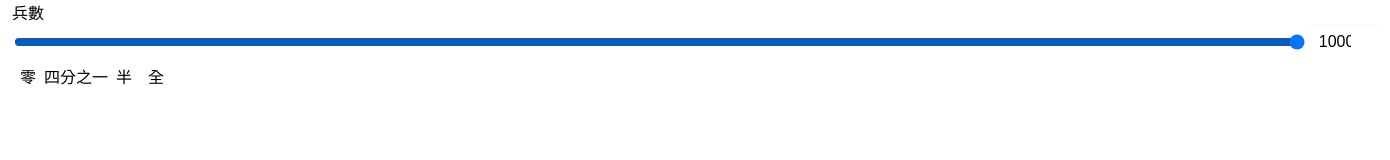
Test: NumberSlider typed value normalization › normalizes 1000 → 1500 on blur to 1000 exactly once
Replace the text in the number field named "兵數" with "1500" at [1342, 42], box x1=1307 y1=24 x2=1378 y2=60
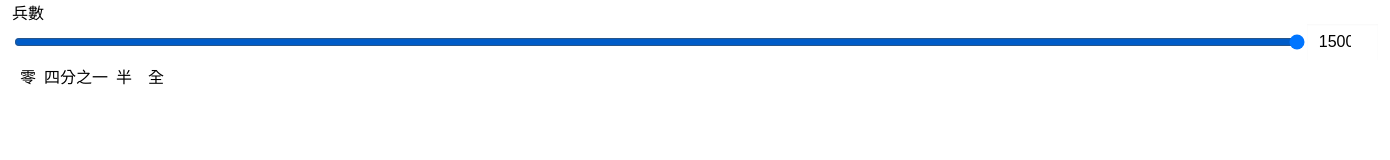
Leave the number field named "兵數", box x1=1307 y1=24 x2=1378 y2=60
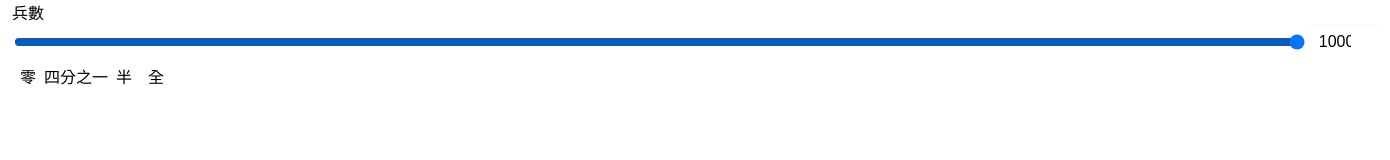
Expected: the slider holds "1000", x1=14 y1=26 x2=1305 y2=58
Expected: the number field named "兵數" holds "1000", x1=1307 y1=24 x2=1378 y2=60
